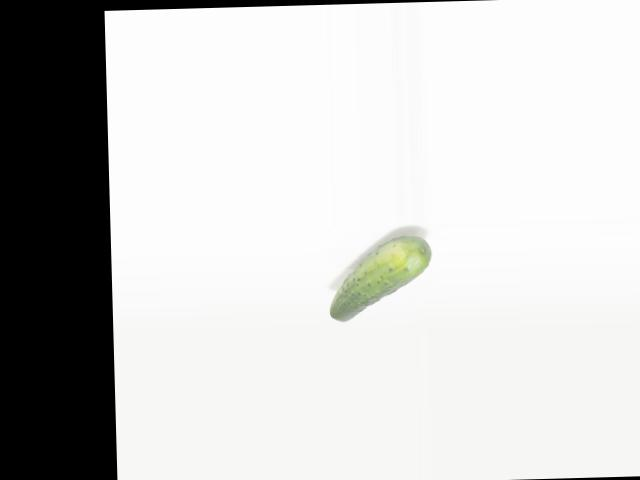cucumber: (327, 236, 432, 321)
